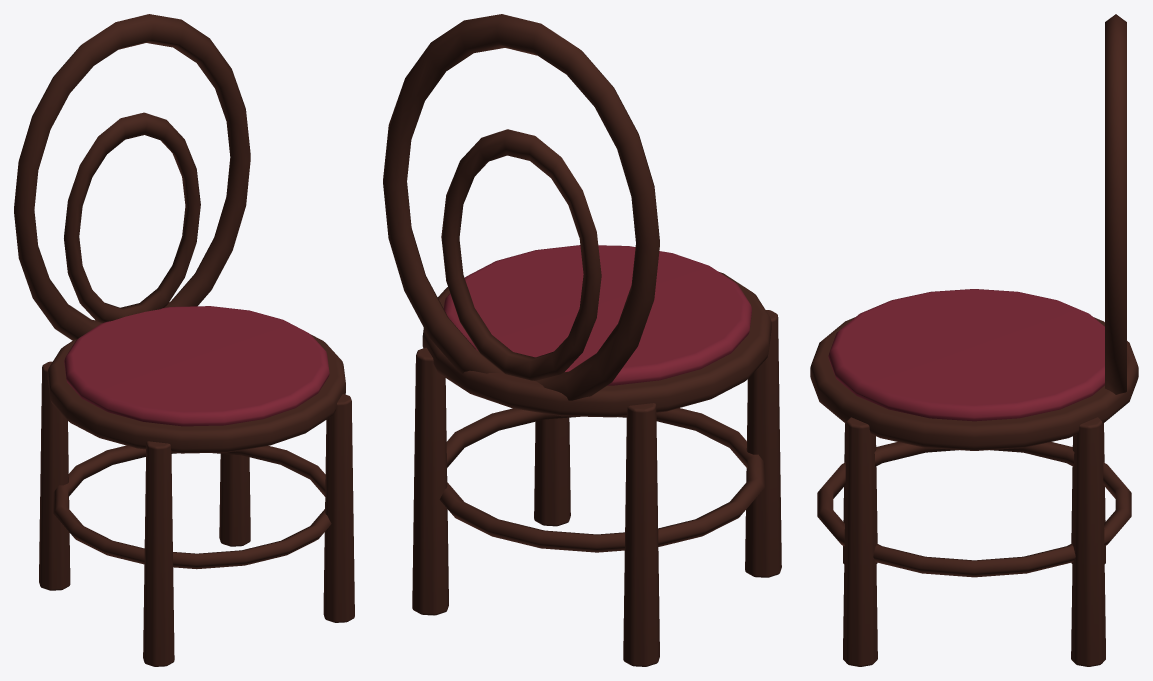
File: cafe-chair.glb
3 views of the same model, side by side, from view 1: azimuth 30°, elevation 25°; view 2: azimuth 150°, elevation 25°; view 3: azimuth 270°, elevation 25° (orthographic). The views are drawn at different scales.
Visible parts, largest first — view 1: cafe-chair; view 2: cafe-chair; view 3: cafe-chair.
Boxes of the visible parts, x1,y1,x2,y2 form: cafe-chair: (14,14,354,666); cafe-chair: (383,14,781,666); cafe-chair: (810,14,1138,666).
Size of the model in its own units: 0.36 by 0.7091 by 0.36.
